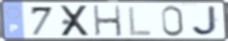0: (160, 4, 186, 38)
7: (28, 6, 57, 37)
H: (92, 5, 124, 38)
J: (191, 5, 221, 37)
L: (127, 5, 154, 37)
X: (59, 4, 92, 38)
